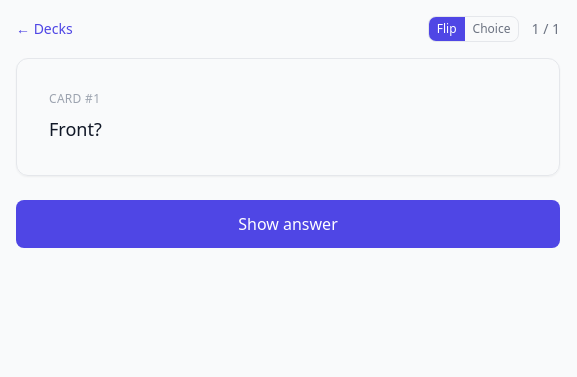
Test case: StudyPage › a failure loading deck settings leaves the session silent, not broken
Check: the text "Front?" is shown, box [49, 117, 102, 141]
Click the button "Show answer" at (288, 224), box [16, 200, 560, 248]
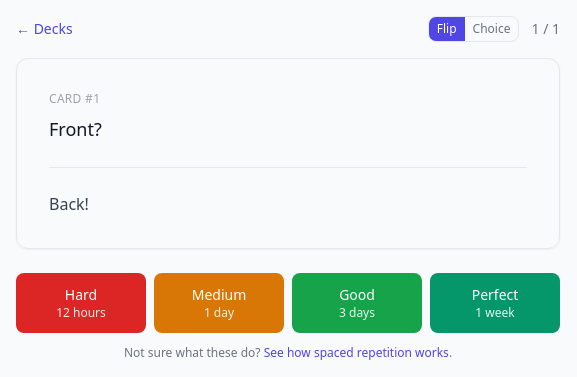
Check: the text "Back!" is shown, box [49, 193, 89, 215]
